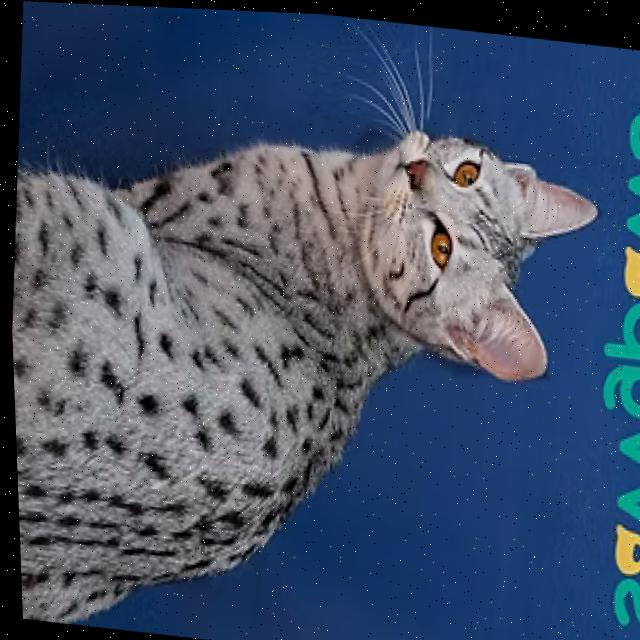Savannah: (2, 75, 622, 640)
